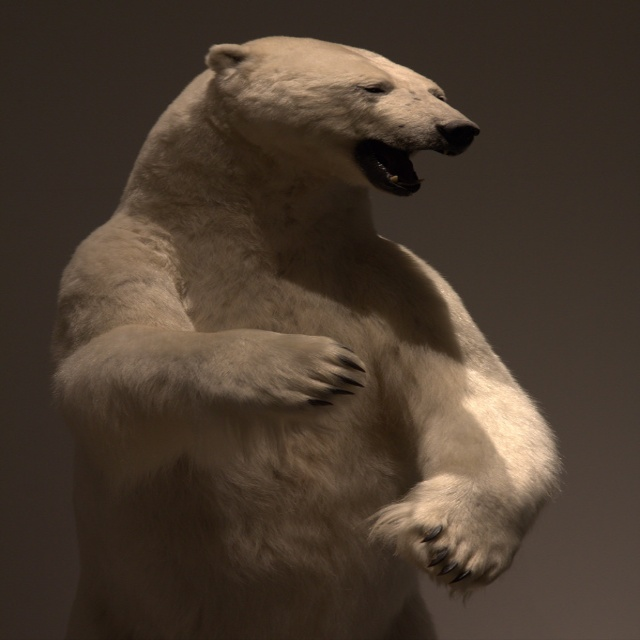Polar bear: (52, 35, 561, 640)
